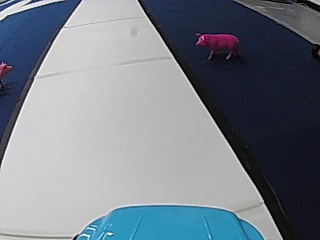pig: (191, 29, 240, 59)
